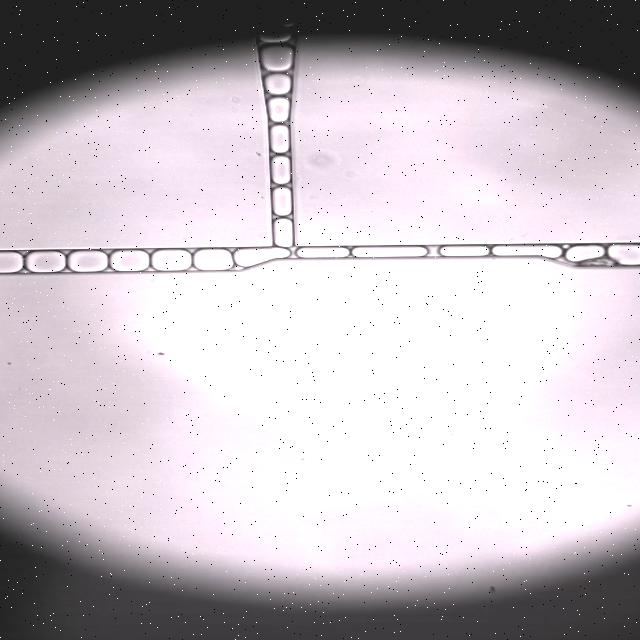L: (261, 45, 293, 71), (566, 245, 603, 261), (272, 187, 292, 216), (264, 74, 291, 95), (297, 247, 348, 258), (273, 219, 293, 247), (267, 97, 289, 122), (270, 125, 289, 153), (272, 156, 291, 184), (440, 246, 488, 256)
S: (233, 248, 289, 267), (67, 250, 108, 272), (492, 245, 560, 258), (25, 251, 65, 272), (109, 250, 149, 271), (152, 250, 192, 271), (353, 246, 427, 257), (195, 249, 232, 270), (607, 245, 640, 265), (0, 252, 23, 273)
